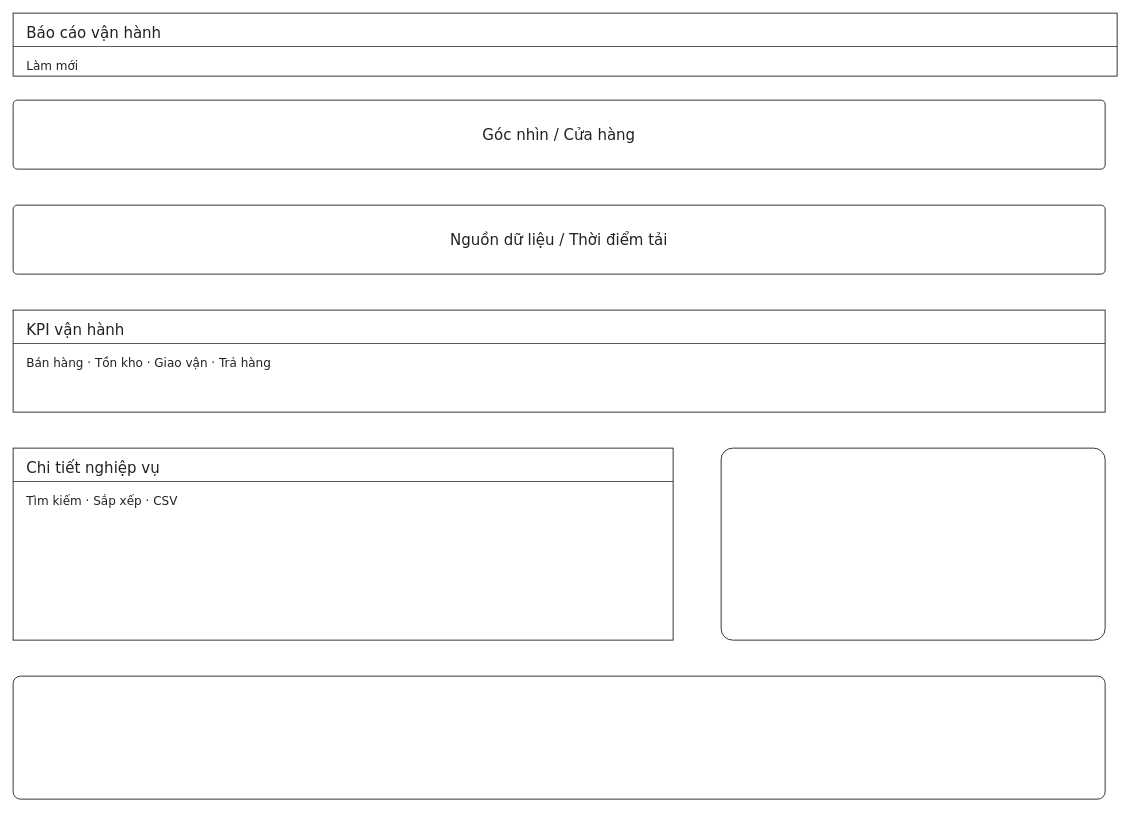
Some shapes in this 1131 by 813 pixel diagram are drawn without their labels. The shapes that lost their labels are listed below. From the top down, each one's box as (x1, y1, x2, y2) in pixels, then its label:
(720, 447, 1105, 640): Tác vụ nghiệp vụ
(12, 675, 1105, 799): Định nghĩa chỉ số
